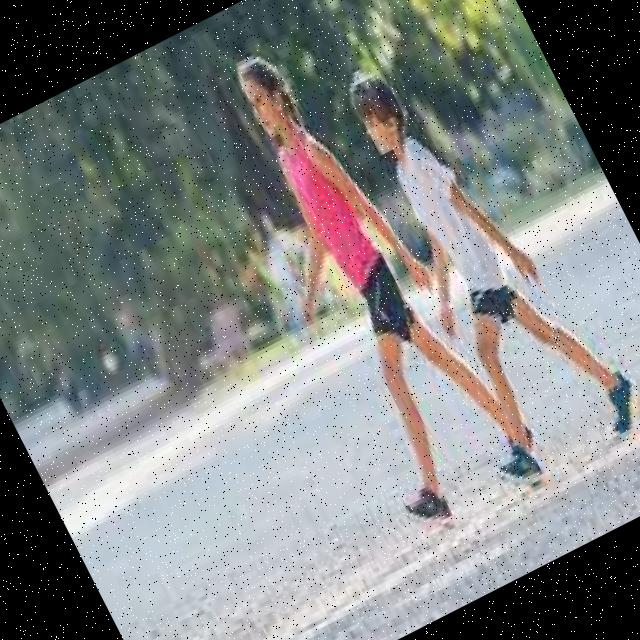Person: (187, 19, 553, 542), (308, 24, 640, 497)
